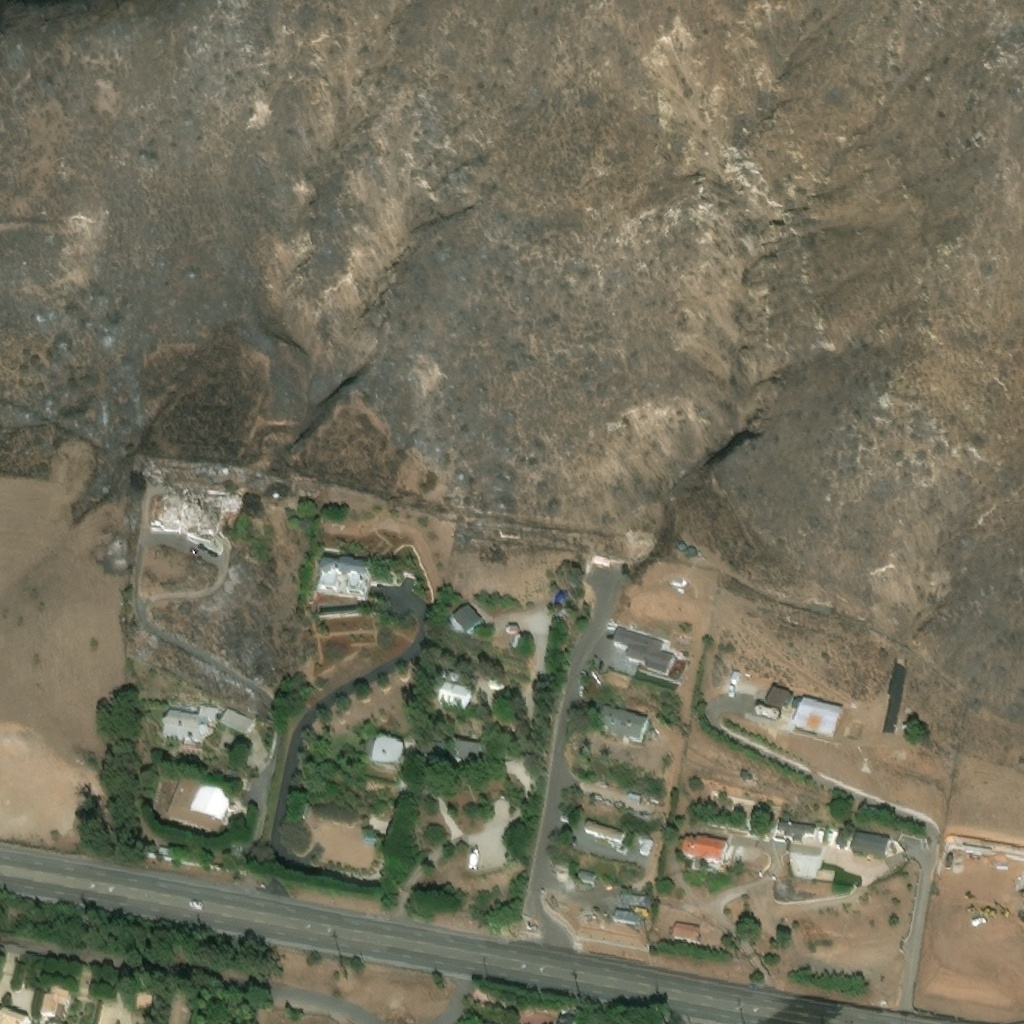0 no-damage: (166, 778, 232, 836), (611, 627, 676, 676), (587, 702, 649, 744), (160, 702, 216, 745), (791, 694, 844, 738), (787, 840, 823, 880), (680, 834, 725, 861), (852, 833, 890, 861), (436, 681, 471, 711), (337, 574, 372, 604), (217, 704, 253, 732), (775, 817, 815, 842), (454, 605, 484, 635), (39, 984, 68, 1015), (370, 735, 401, 763), (584, 819, 623, 841), (331, 562, 368, 583), (451, 738, 481, 763), (765, 684, 792, 708), (359, 773, 395, 791), (671, 923, 698, 946), (316, 576, 339, 598), (0, 1007, 29, 1023), (134, 991, 151, 1015), (419, 739, 440, 756), (362, 733, 376, 755), (1013, 867, 1023, 895), (637, 834, 652, 852), (320, 563, 337, 578), (816, 869, 834, 883), (576, 869, 595, 882), (362, 829, 376, 843), (592, 552, 608, 562), (512, 636, 522, 649), (401, 734, 412, 745), (506, 626, 518, 635), (900, 722, 910, 732), (677, 542, 686, 550), (688, 547, 695, 553)
3 destroyed: (175, 491, 204, 533), (161, 488, 180, 529), (202, 494, 238, 512), (147, 491, 163, 524), (197, 509, 218, 534), (147, 522, 186, 531), (165, 480, 184, 492)
